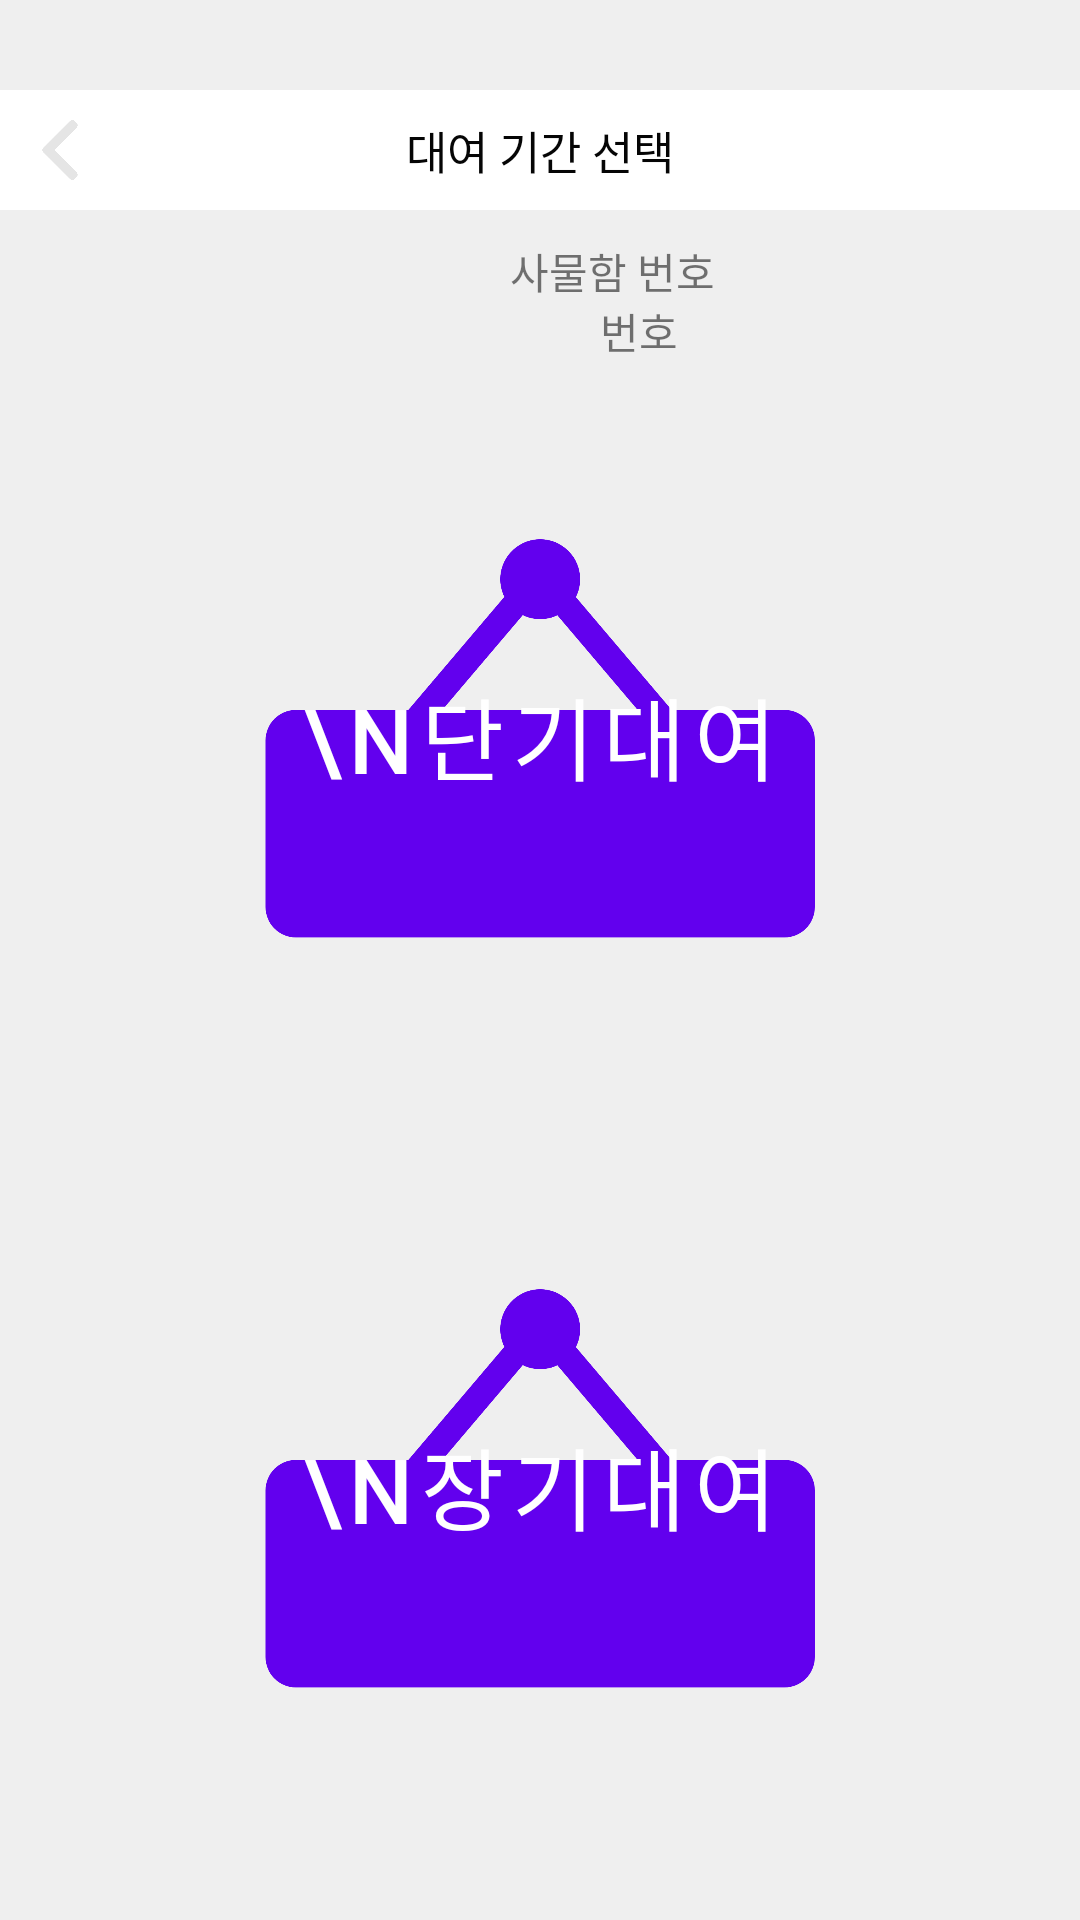

Named icons in this screenshot (1080×1920) and their centers, point (x, y):
left arrow: point (60, 150)
